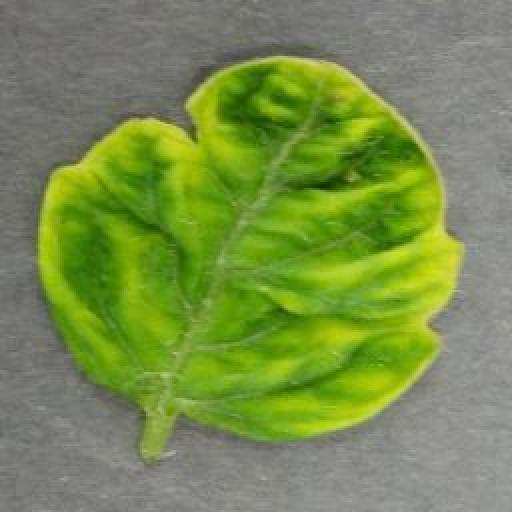disease_tomato: (34, 53, 467, 447)
